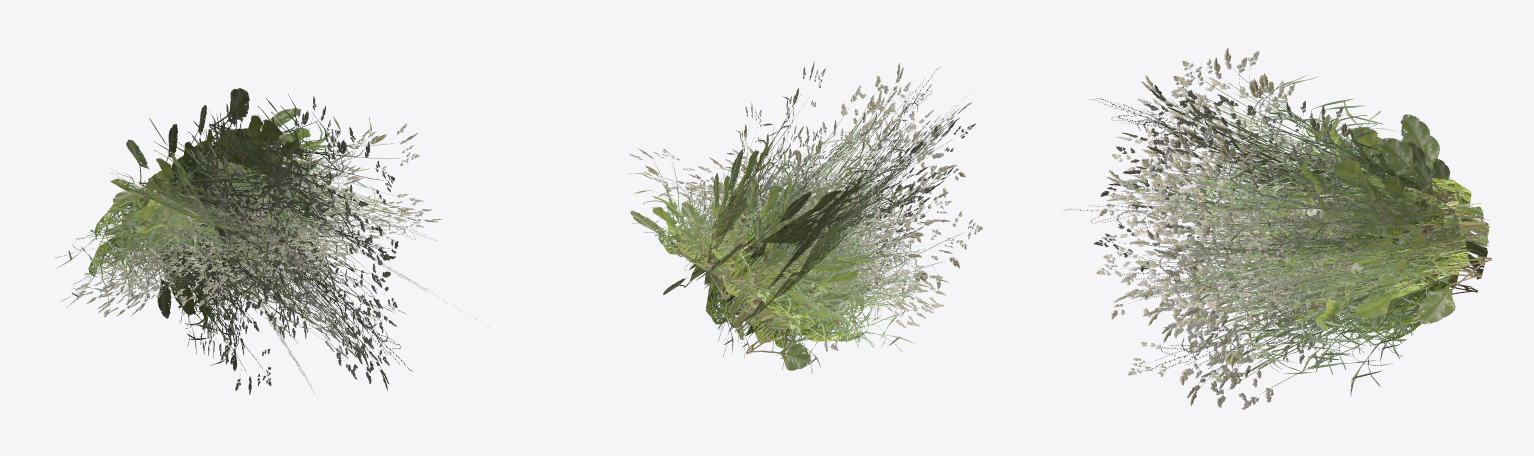
File: Bush01.obj
3 views of the same model, side by side, from view 1: azimuth 30°, elevation 25°; view 2: azimuth 150°, elevation 25°; view 3: azimuth 270°, elevation 25° (orthographic). The views are drawn at different scales.
Parts seen in each view (by area): view 1: Plane; view 2: Plane; view 3: Plane.
Boxes of the visible parts, x1,y1,x2,y2 form: Plane: (54, 88, 488, 394); Plane: (627, 61, 982, 374); Plane: (1062, 48, 1491, 409).
Bounding box in the file's own units: 3.19 × 2.71 × 3.43.
